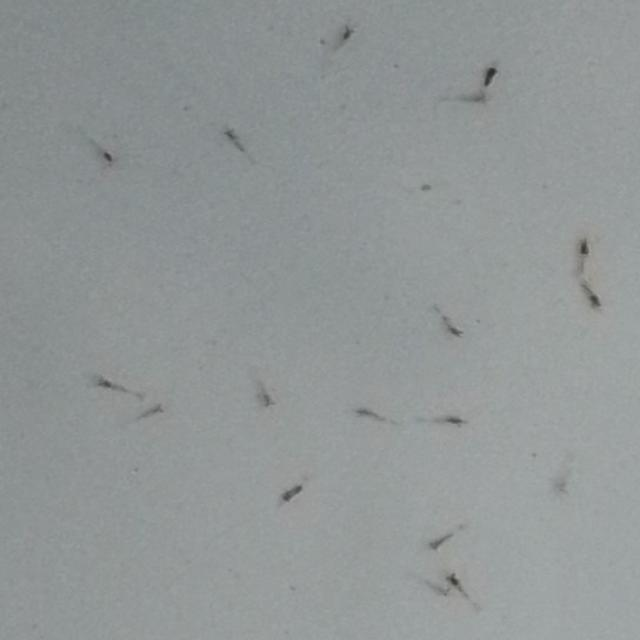shrimp-seed: (462, 88, 494, 111), (351, 401, 381, 425), (256, 385, 280, 413), (216, 126, 244, 150), (89, 373, 122, 393), (434, 414, 469, 432), (441, 316, 466, 340), (476, 60, 500, 85), (548, 473, 572, 497), (425, 533, 451, 555), (332, 25, 358, 47), (580, 290, 604, 313), (278, 483, 304, 504), (446, 571, 468, 593), (574, 237, 595, 260), (102, 150, 125, 169), (140, 404, 167, 419), (429, 584, 449, 602)
